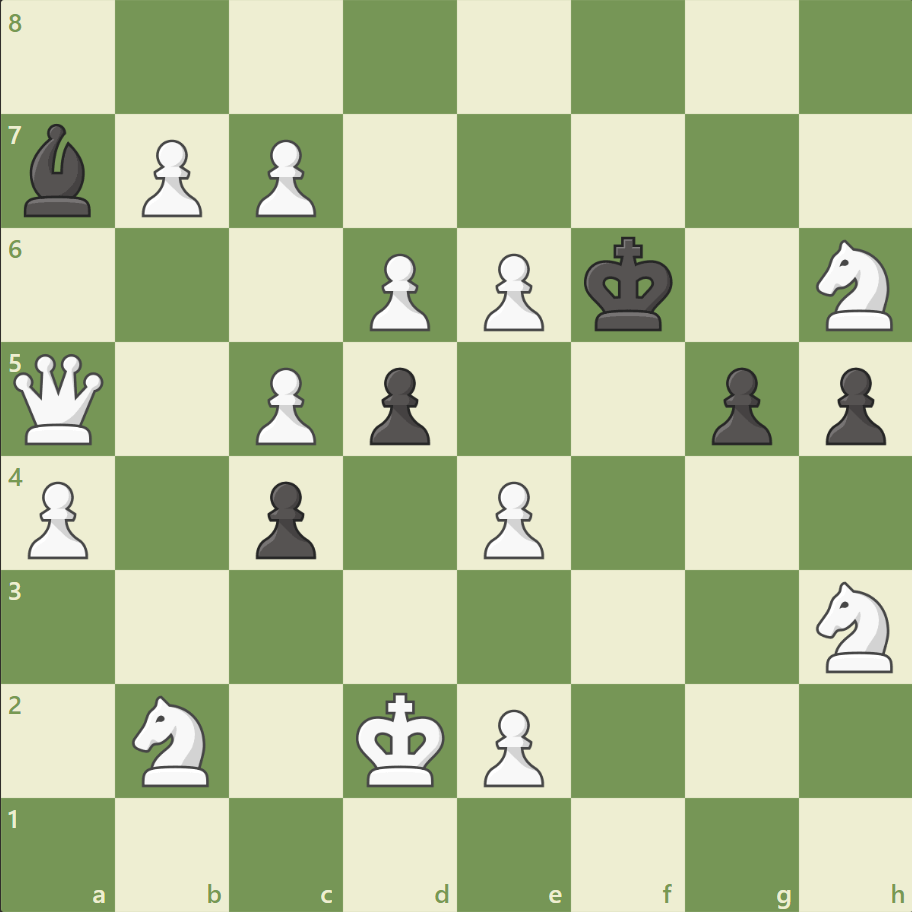K: (351, 685, 451, 793)
N: (124, 688, 222, 791), (806, 234, 903, 337), (806, 575, 903, 677)
P: (133, 132, 208, 223), (247, 132, 322, 223), (474, 246, 549, 337), (247, 359, 322, 450), (20, 473, 95, 564), (474, 473, 549, 564), (474, 700, 549, 791), (361, 246, 435, 337)
Q: (10, 349, 109, 449)
b: (17, 120, 101, 222)
k: (579, 231, 679, 339)
p: (701, 359, 776, 450), (247, 473, 322, 564), (361, 359, 435, 450), (815, 359, 889, 450)
